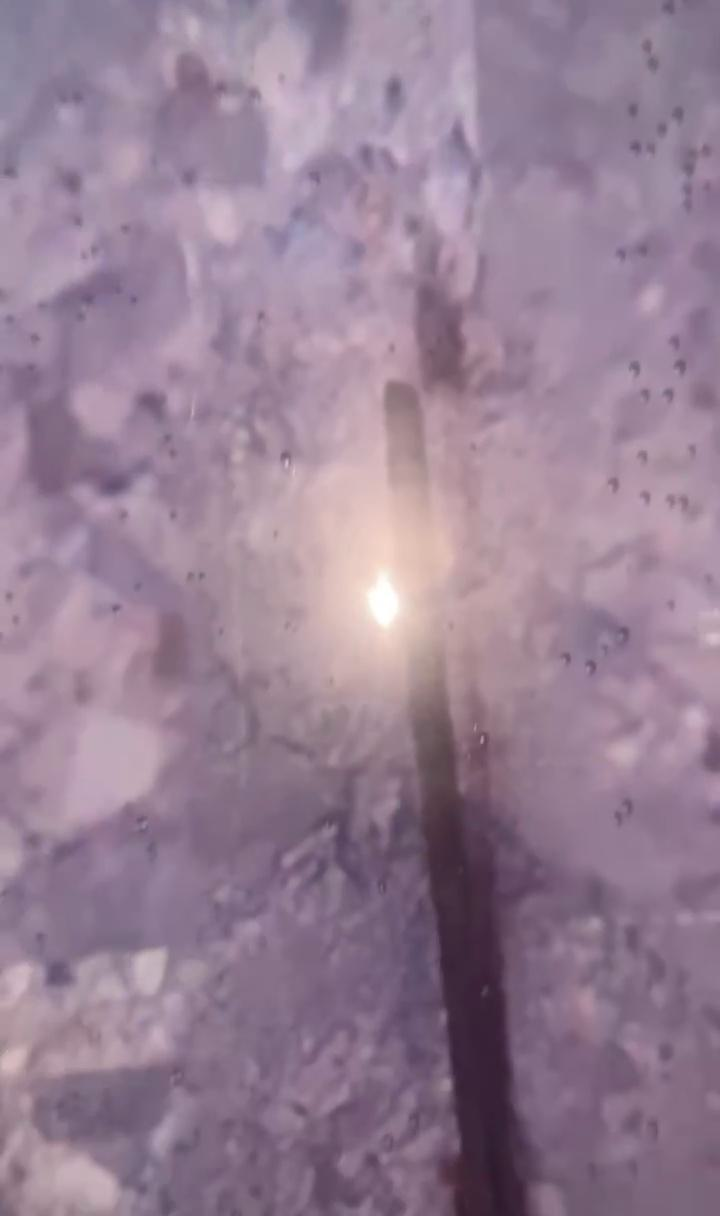Exposed reinforcement: (381, 380, 521, 1216)
